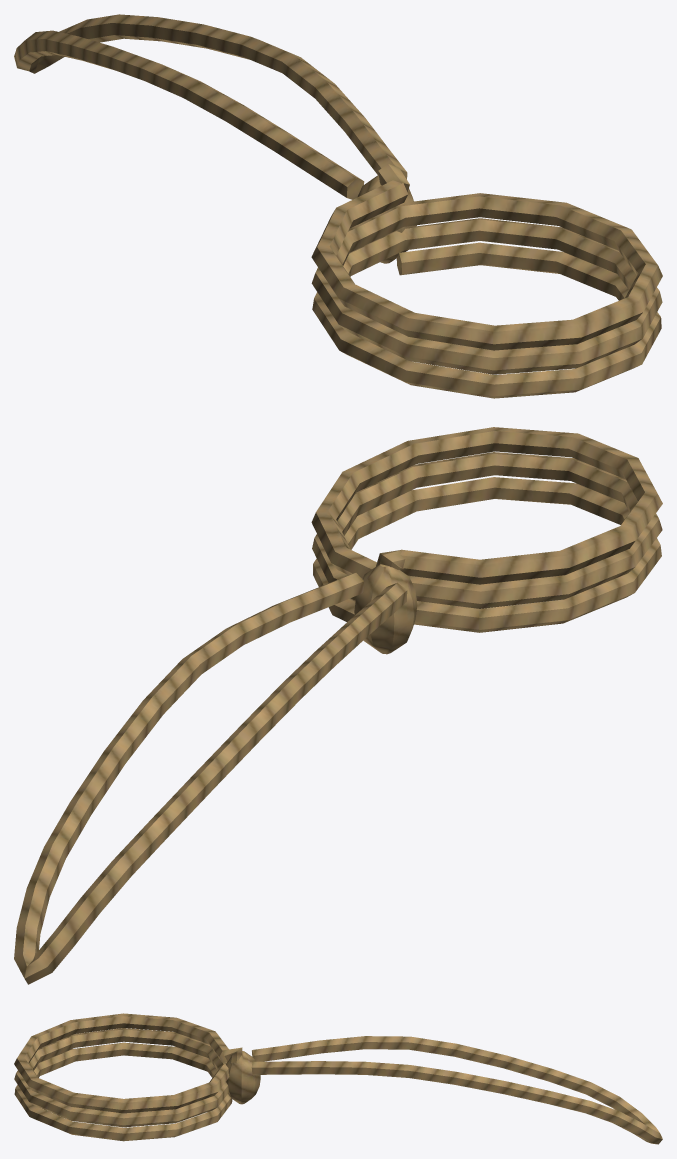
Rendered from bow_cord.glb.
The picture shows the model from 3 angles, top to bottom: view 1: azimuth 30°, elevation 25°; view 2: azimuth 150°, elevation 25°; view 3: azimuth 270°, elevation 25°; orthographic projection. The views are drawn at different scales.
Parts seen in each view (by area): view 1: BowCord; view 2: BowCord; view 3: BowCord.
Part boxes in pixels (bbox=[...]): BowCord: bbox=[14, 14, 662, 398]; BowCord: bbox=[14, 427, 662, 984]; BowCord: bbox=[14, 1013, 662, 1144].
Size of the model in its own units: 0.0358 by 0.0193 by 0.116.
Materials: 1 (1 with a texture image).
